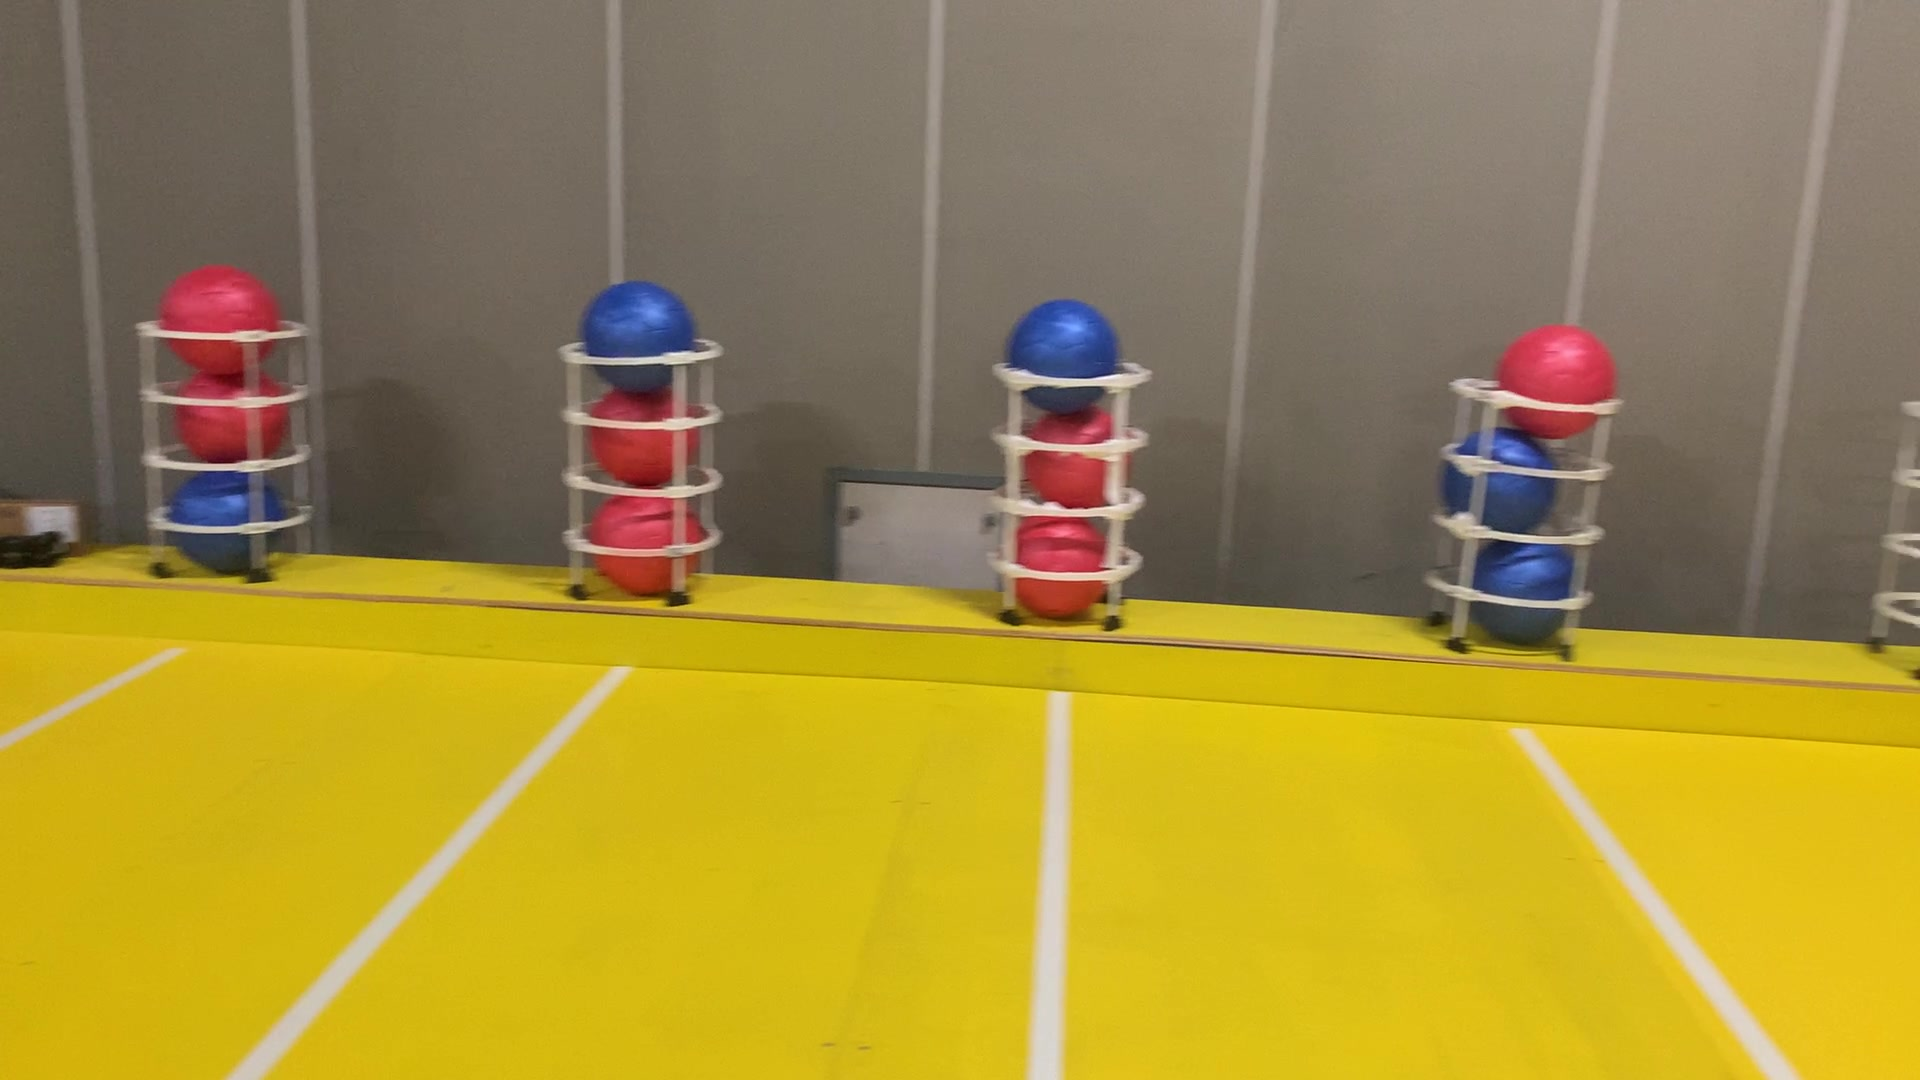blue: (1456, 524, 1581, 650), (1433, 417, 1568, 534), (160, 459, 289, 580), (1004, 286, 1121, 417), (575, 276, 699, 396)
red: (1497, 311, 1625, 452), (154, 255, 285, 376), (587, 477, 715, 596), (161, 361, 289, 471), (1001, 514, 1121, 628), (587, 380, 705, 489), (1014, 410, 1126, 517)
